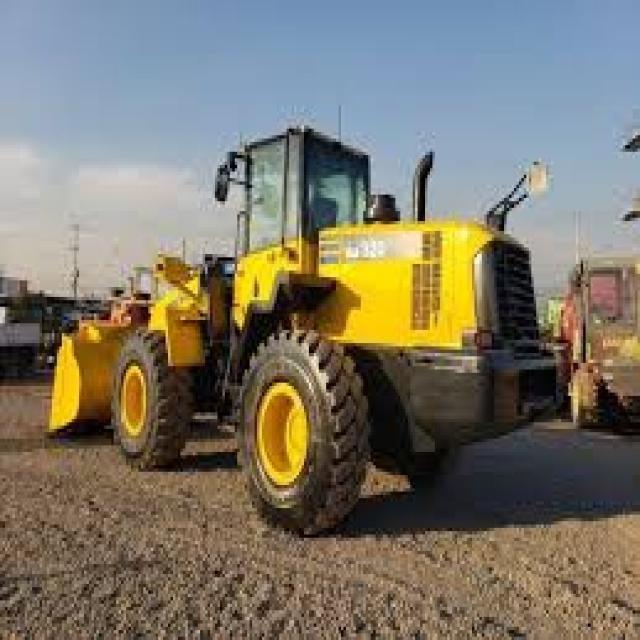buldozerpayloadergrader: (42, 118, 568, 540)
